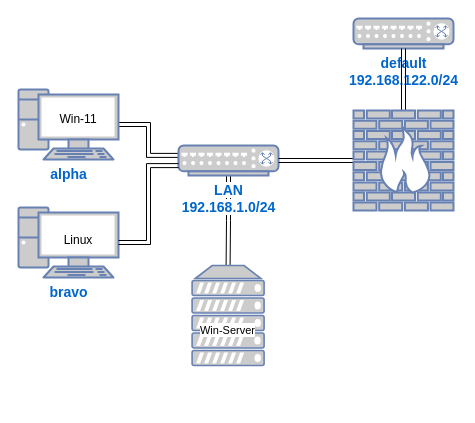
Some shapes in this 475 by 423 pixel diagram are drawn without their labels. The shapes that lost their labels are listed below. From the top down, each one's box as (x1, y1, x2, y2) in pixels, then its label:
(352, 109, 454, 211): ipfire
(191, 264, 265, 366): acme-dc 192.168.1.21
